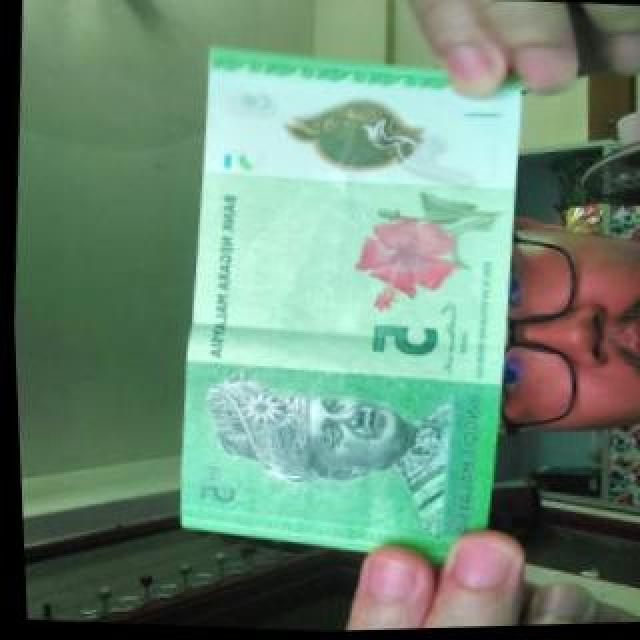5 Ringgit: (162, 30, 540, 552)
